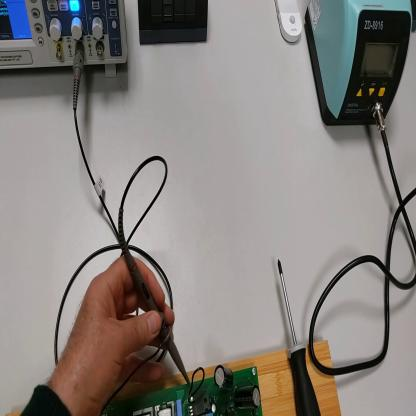hand: (65, 259, 177, 415)
high voltage board: (102, 365, 263, 414)
oscilloscope: (2, 1, 127, 80)
oscilloscope probe tip: (118, 209, 192, 392)
screwdriver-: (279, 263, 322, 415)
welder station: (306, 1, 412, 131)
working area: (107, 341, 341, 414)
